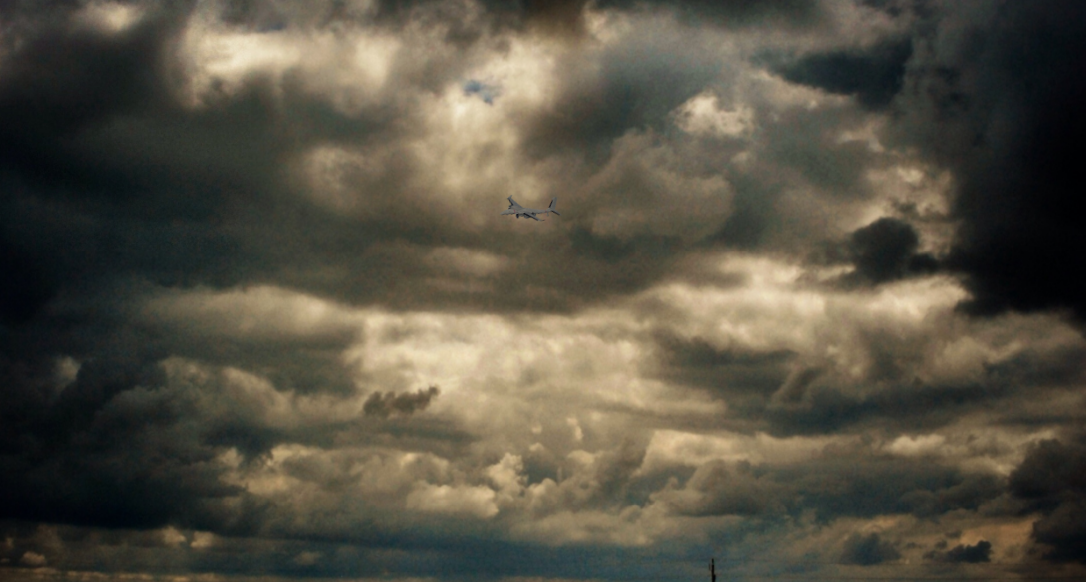military drone: (501, 194, 561, 221)
